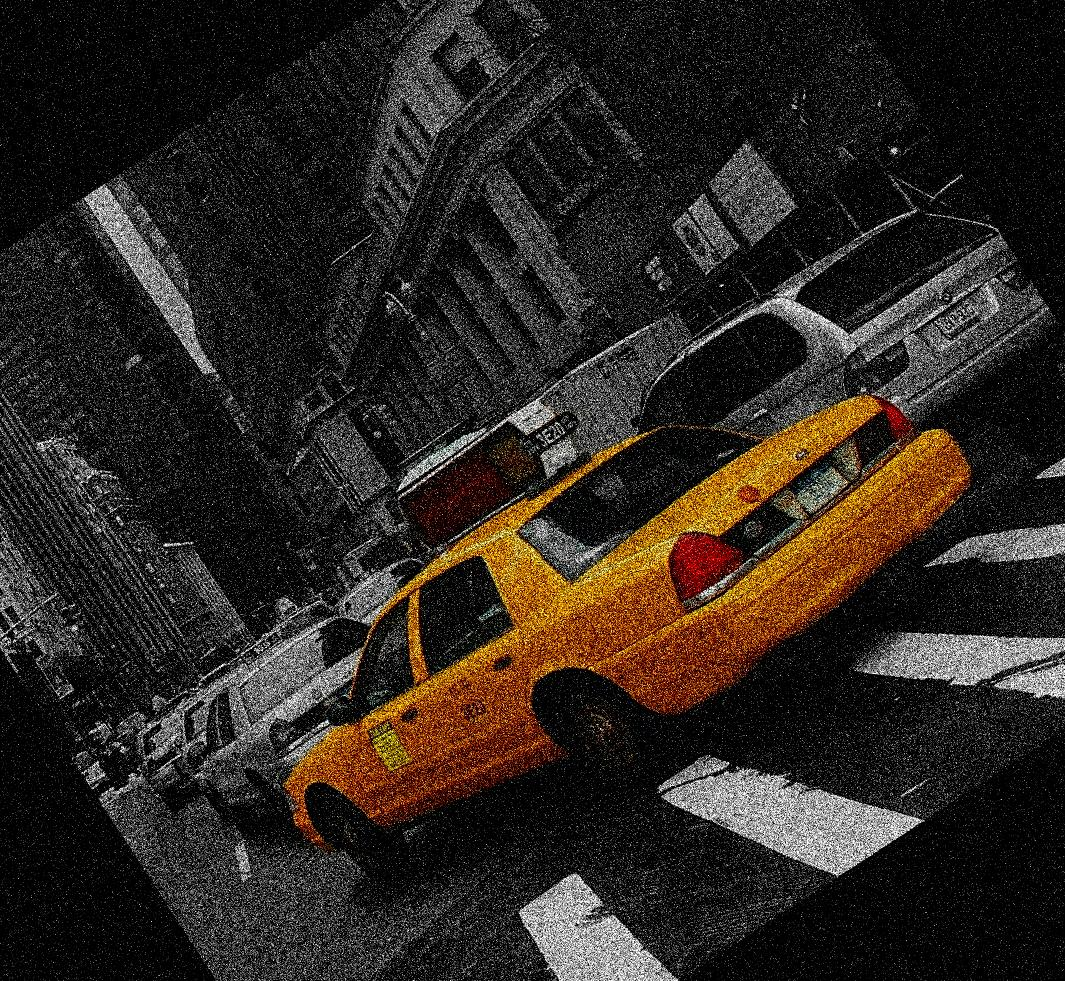taxi: (291, 374, 960, 858)
